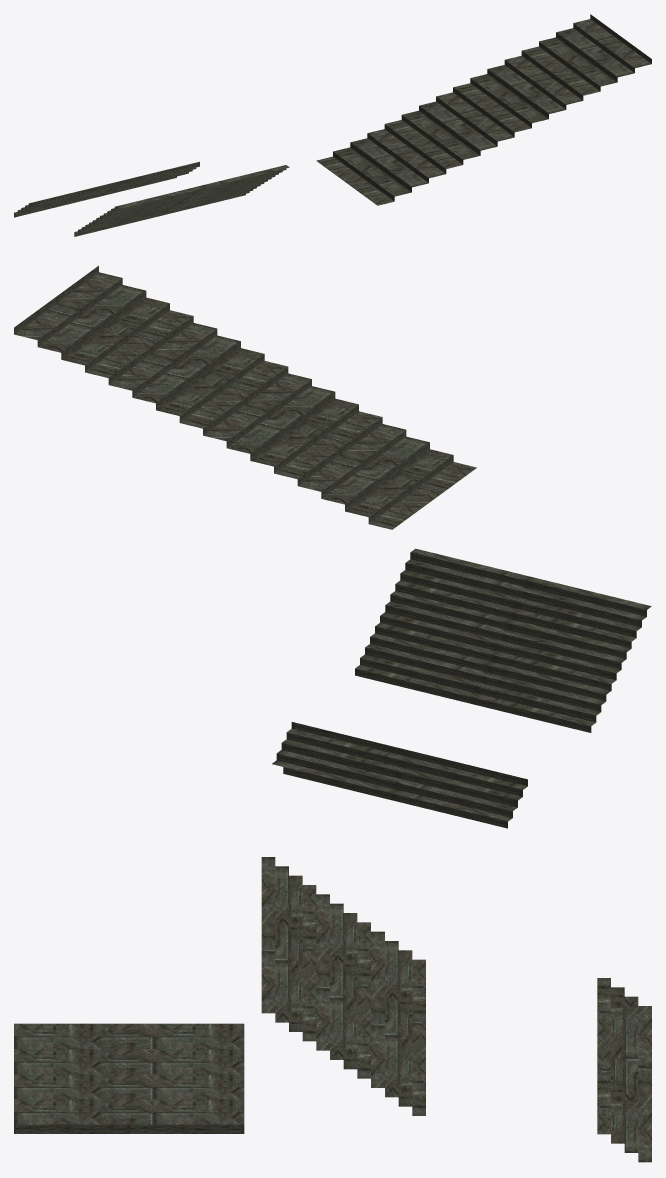
Rendered from CH09_SMAUG_PLAYSURFACE_LAIR90.fbx.
The picture shows the model from 3 angles, top to bottom: view 1: azimuth 30°, elevation 25°; view 2: azimuth 150°, elevation 25°; view 3: azimuth 270°, elevation 25°; orthographic projection. The views are drawn at different scales.
Parts seen in each view (by area): view 1: CH09_SMAUG_PLAYSURFACE_LAIR90; view 2: CH09_SMAUG_PLAYSURFACE_LAIR90; view 3: CH09_SMAUG_PLAYSURFACE_LAIR90.
Part boxes in pixels (bbox=[...]): CH09_SMAUG_PLAYSURFACE_LAIR90: bbox=[14, 14, 651, 236]; CH09_SMAUG_PLAYSURFACE_LAIR90: bbox=[14, 265, 651, 828]; CH09_SMAUG_PLAYSURFACE_LAIR90: bbox=[14, 857, 651, 1162].
Size of the model in its own units: 294312 by 102000 by 186285.
Materials: 1 (1 with a texture image).
